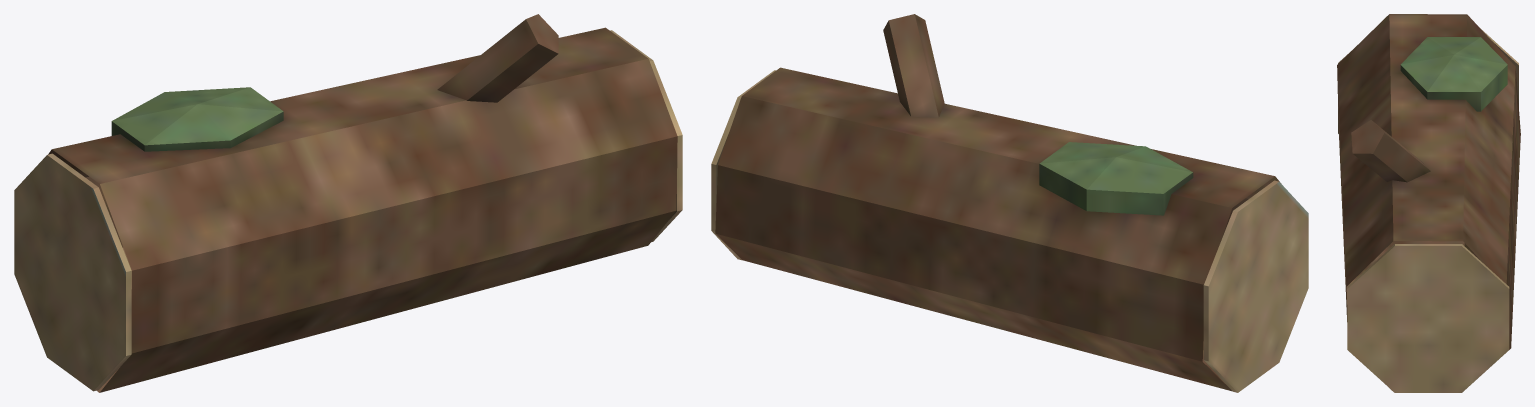
File: SM_Loot_Log.fbx
3 views of the same model, side by side, from view 1: azimuth 30°, elevation 25°; view 2: azimuth 150°, elevation 25°; view 3: azimuth 270°, elevation 25° (orthographic). The views are drawn at different scales.
Visible parts, largest first — view 1: SM_Loot_Log; view 2: SM_Loot_Log; view 3: SM_Loot_Log.
Part boxes in pixels (box(x1,y1,x2,y2)): SM_Loot_Log: box(14, 14, 682, 392); SM_Loot_Log: box(711, 14, 1308, 392); SM_Loot_Log: box(1337, 14, 1520, 392).
Size of what is drawn, in the model's own units: 102 by 48.73 by 35.63.
Materials: 1 (1 with a texture image).
